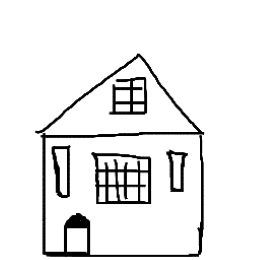bottom_placed_house: (1, 1, 260, 260)
closed_window: (88, 145, 154, 209), (104, 74, 157, 119)
door: (57, 206, 98, 260)
open_window: (162, 146, 197, 200), (48, 142, 78, 201)
roof: (27, 38, 220, 140)
wall: (37, 117, 209, 260)
